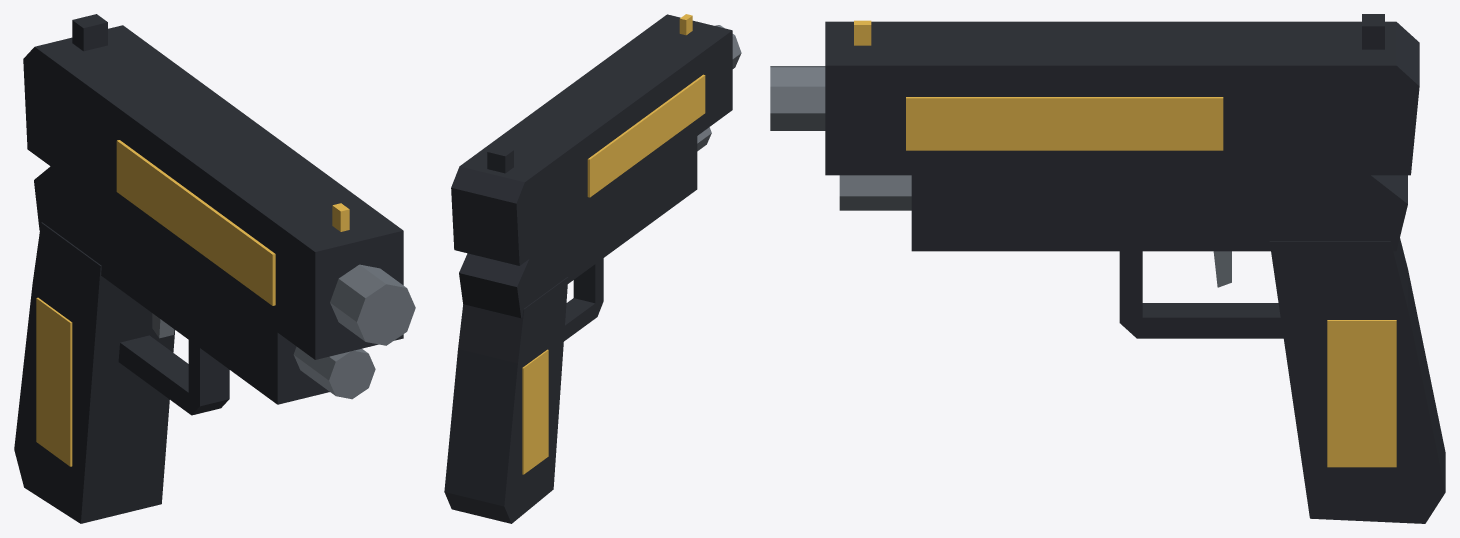
Rendered from tranq_pistol.glb.
3 renders of one model, left to right at view 1: azimuth 30°, elevation 25°; view 2: azimuth 150°, elevation 25°; view 3: azimuth 270°, elevation 25°, orthographic. The views are drawn at different scales.
Visible parts, largest first — view 1: tranq_pistol_mesh; view 2: tranq_pistol_mesh; view 3: tranq_pistol_mesh.
Part boxes in pixels (x1,y1,x2,y2): tranq_pistol_mesh: [14, 14, 415, 523]; tranq_pistol_mesh: [444, 14, 741, 523]; tranq_pistol_mesh: [770, 14, 1445, 523].
Bounding box in the file's own units: 0.0384 × 0.185 × 0.234.
Materials: 1 (1 with a texture image).
